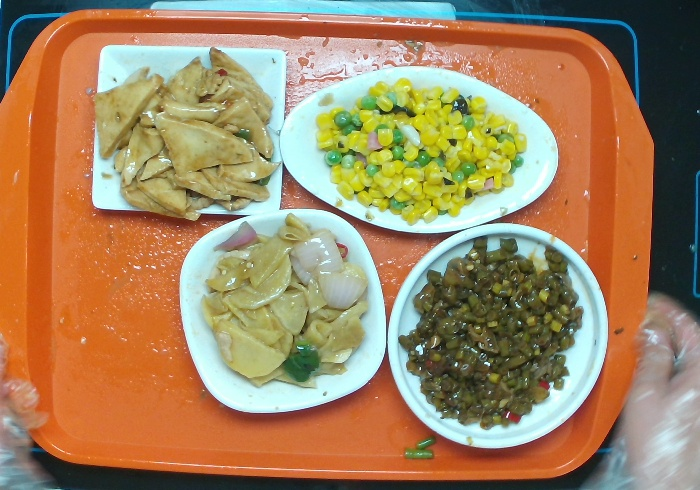HZYJPL-Si_Fang_Die: (87, 40, 287, 226)
HZYJPL-Si_Fang_Yuan_Die: (174, 204, 390, 422)
HZYJPL-Xiao_Yu_Die: (274, 61, 565, 243)
HZYJPL-Xiao_Yuan_Die: (377, 218, 625, 461)
